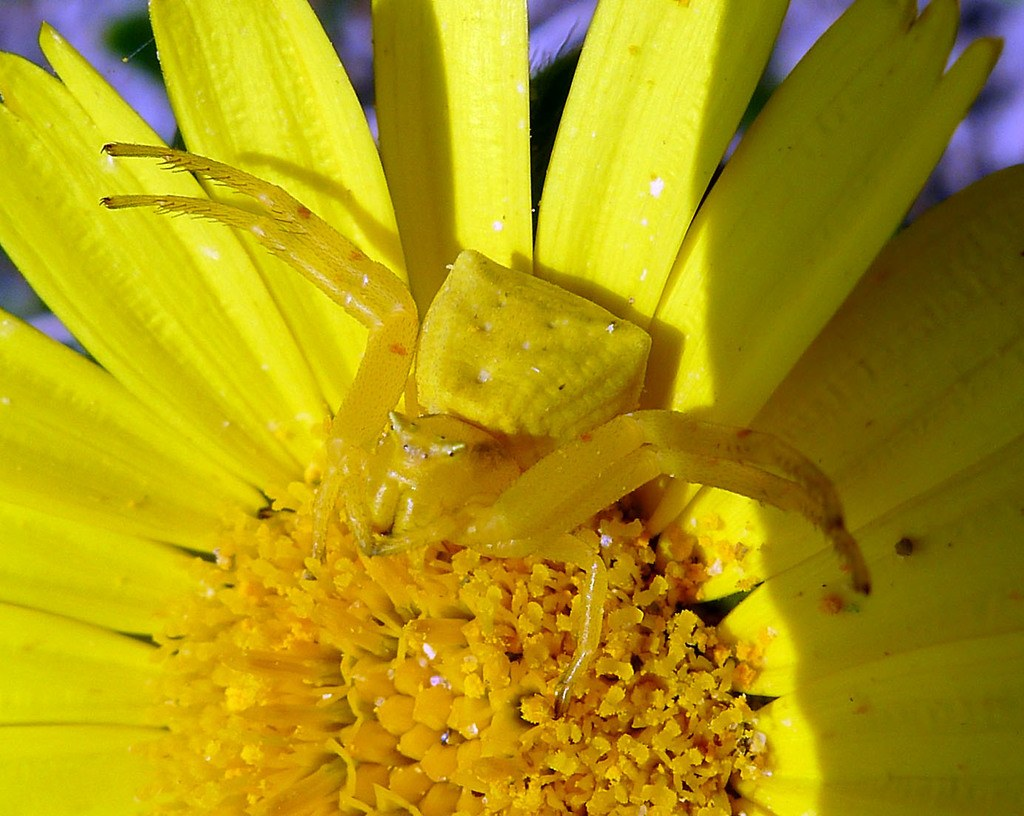insect: (98, 138, 870, 718)
